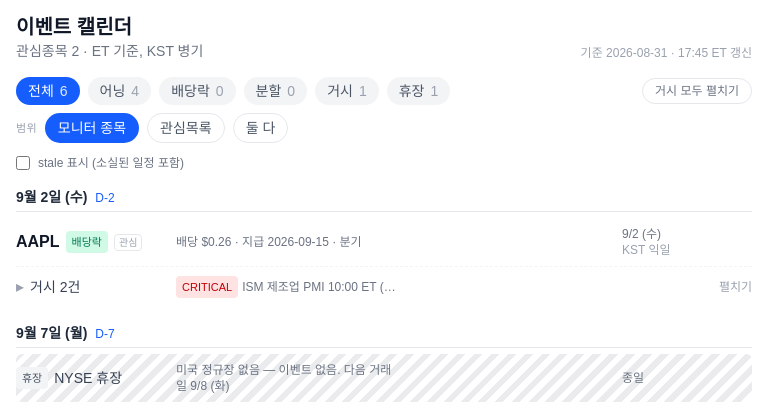
EventCalendarPage — 거시 접기(T2) › 유형 필터가 거시 단독이면 접지 않고 바로 펼쳐서 보여준다
Expected: the button with test id "macro-fold-2026-09-02" is shown, [16,267,752,307]
Click the button with test id "kind-chip-macro" at [347, 91], box [315,77,379,105]
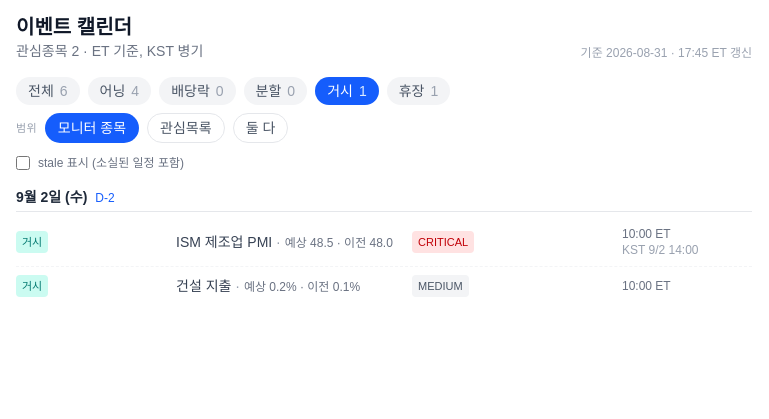
Now the number of elements with test id "event-row-macro-na" is 2, box [16,218,752,267]; [16,275,671,297]
Now the button with test id "macro-fold-2026-09-02" is gone
Now the button with test id "macro-toggle-all" is gone
